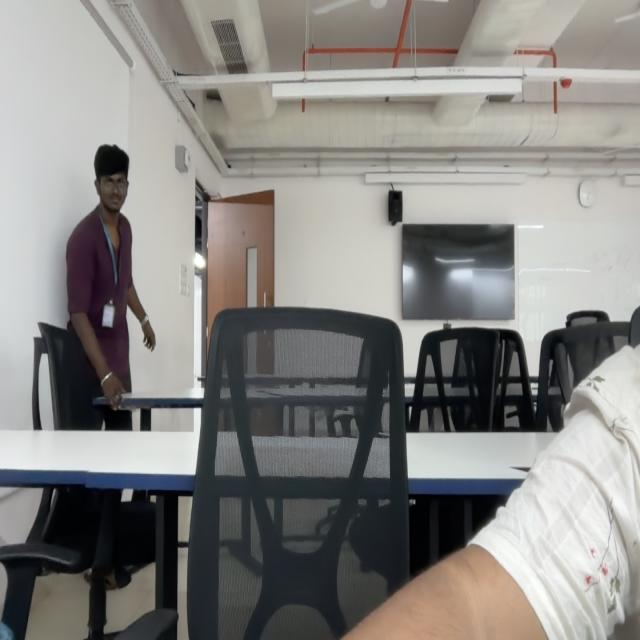ravindra: (93, 140, 131, 216)
